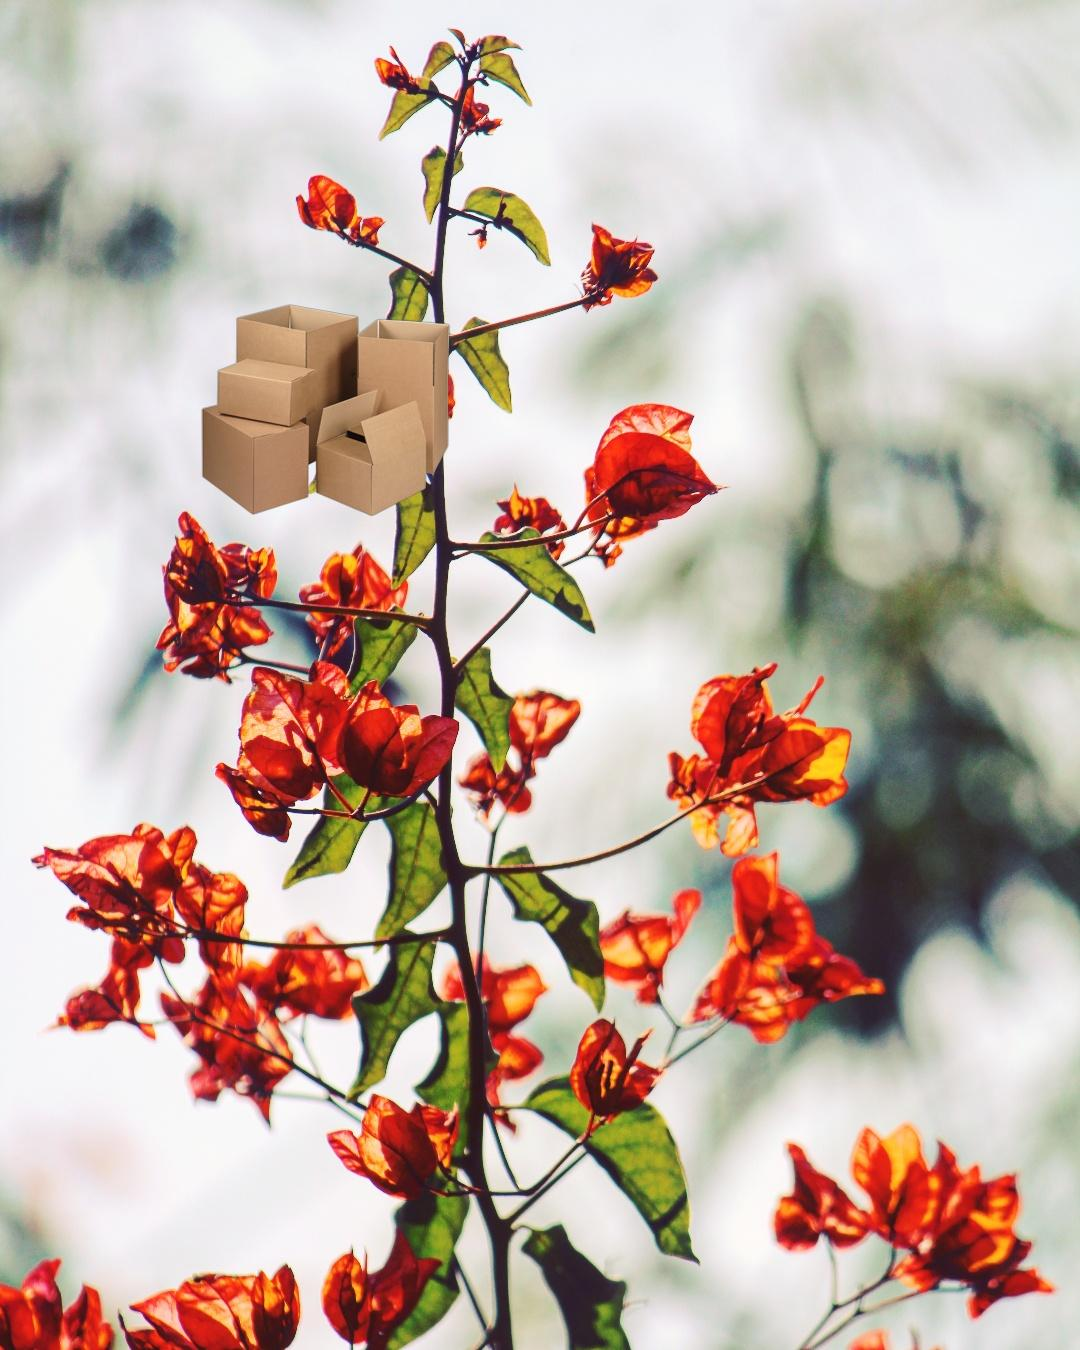trashbox-cardboard: (199, 302, 451, 519)
